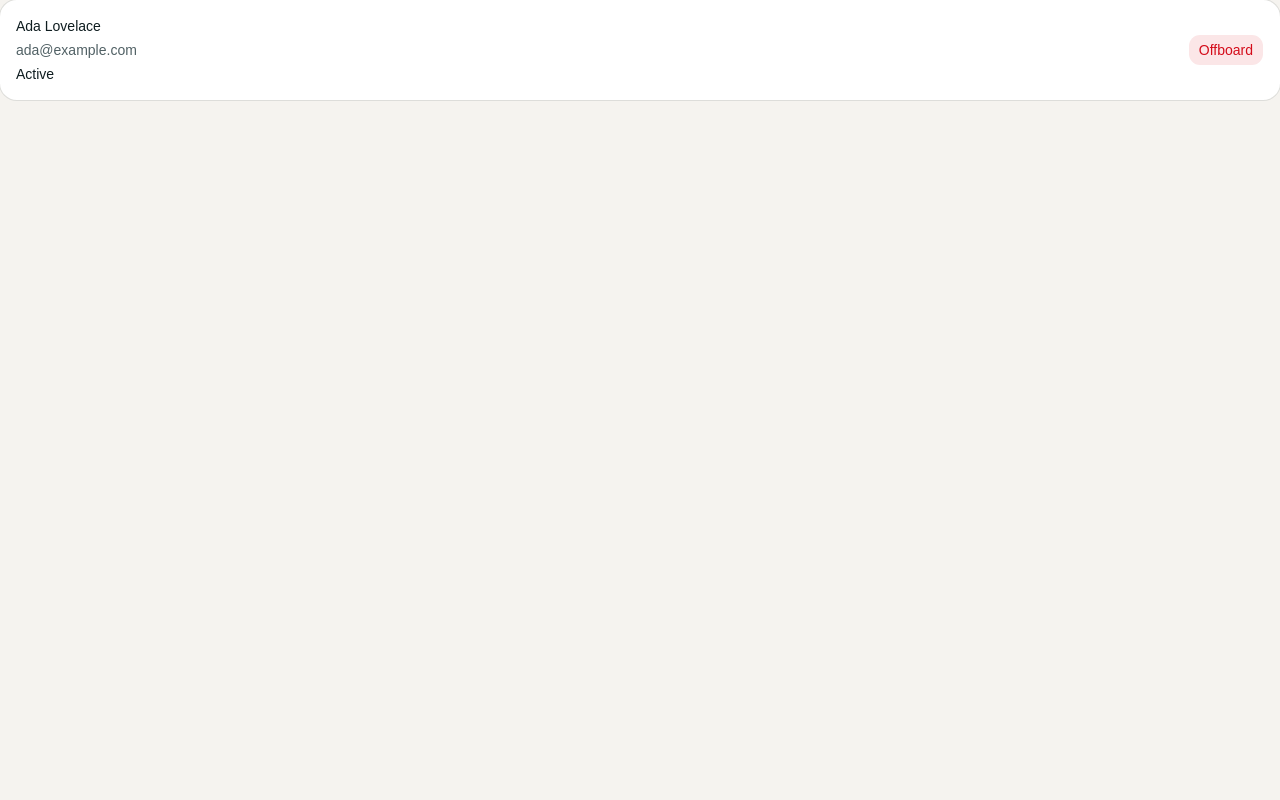
Scenario: MembersAdminPage › offboards only after a confirmation that says what happens, then shows the counts
Click the button with aria-label "Offboard Ada Lovelace": x=1226, y=50 x1=1188 y1=34 x2=1264 y2=66
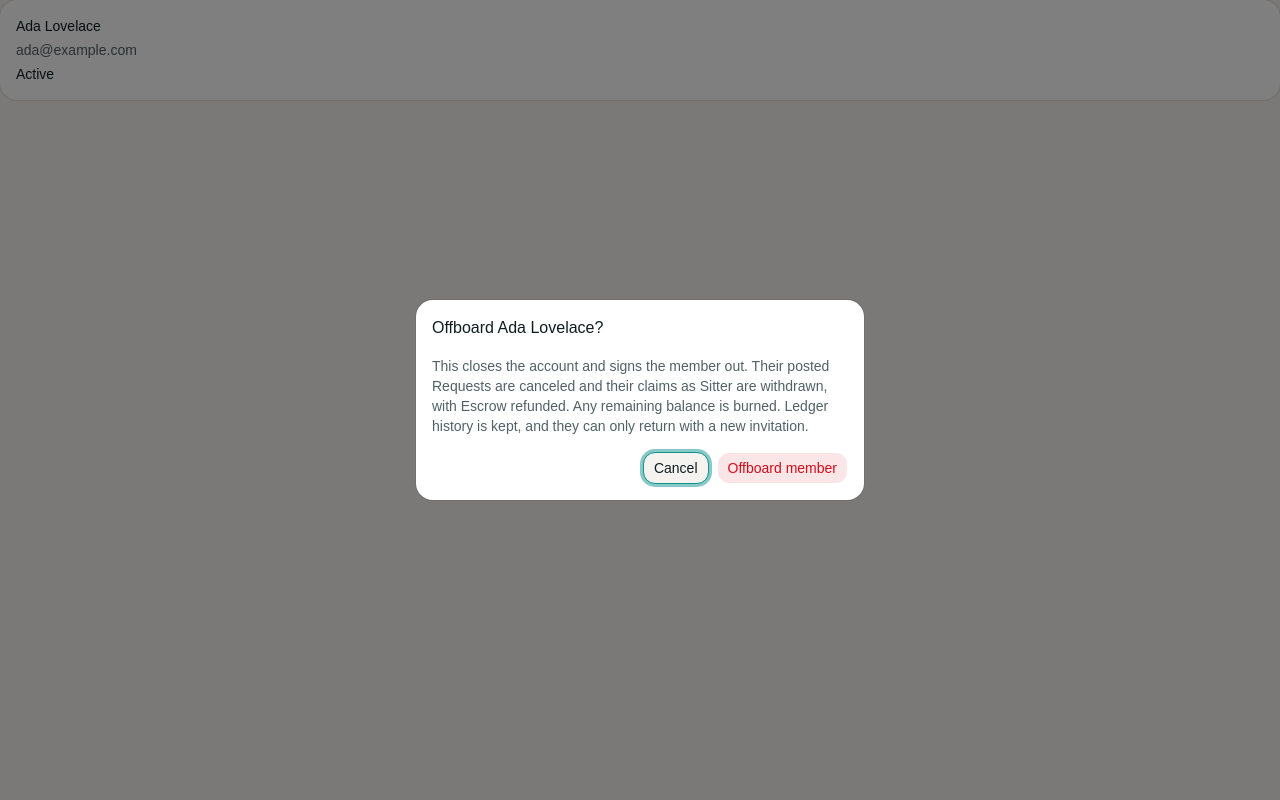
Check: the dialog shows "canceled", box x1=432 y1=358 x2=829 y2=434
Check: the dialog shows "burned", box x1=432 y1=358 x2=829 y2=434
Click the button "Offboard member": x=782, y=468 x1=716 y1=452 x2=848 y2=484
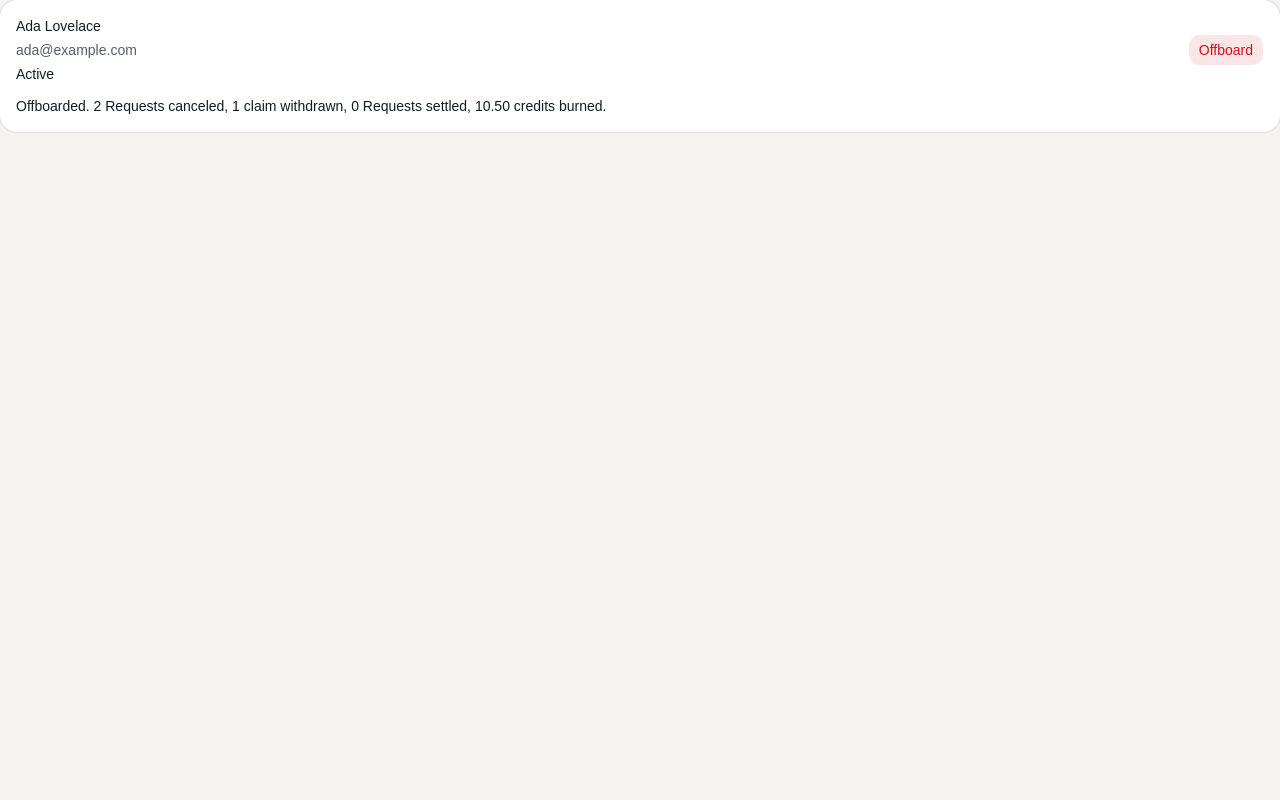
Check: the message shows "Offboarded. 2 Requests canceled, 1 claim withdrawn, 0 Requests settled, 10.50 credits burned.", box x1=16 y1=98 x2=606 y2=114
Check: the dialog is gone
